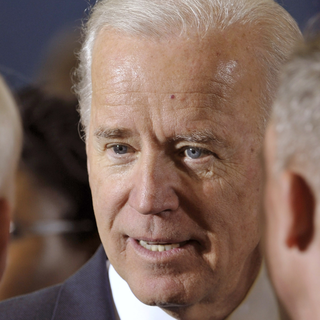eye: (100, 139, 142, 163), (176, 142, 213, 163)
